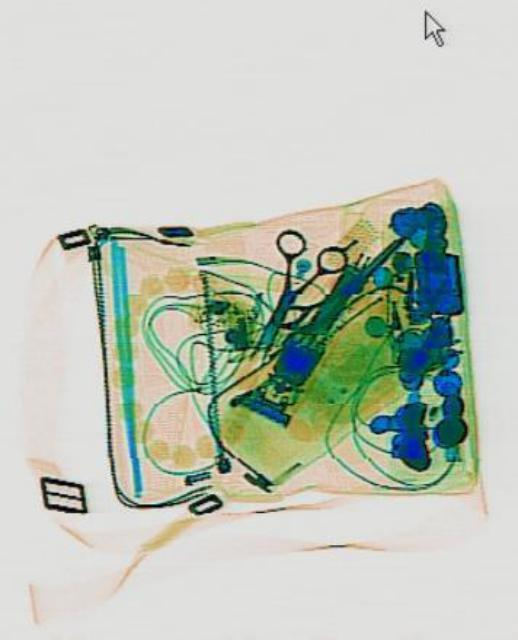Scissors: (223, 214, 347, 380)
